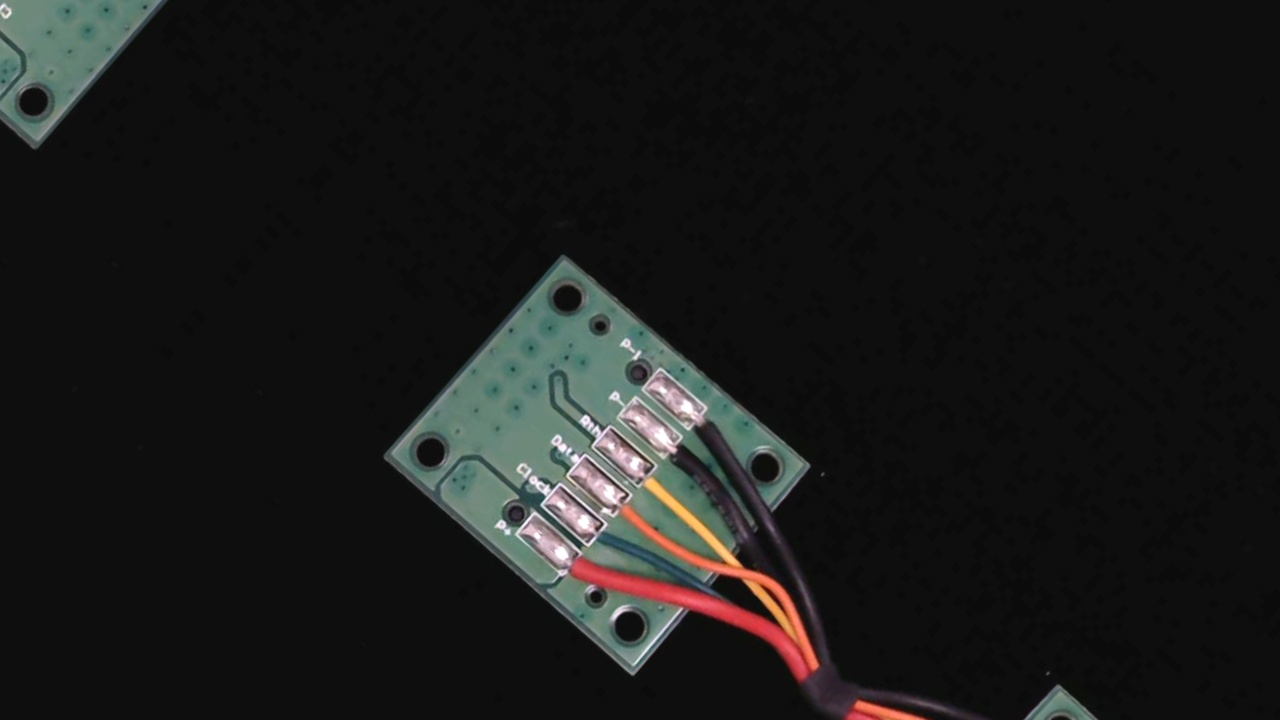Black: (650, 423, 727, 497)
Black1: (675, 395, 748, 464)
Green: (575, 509, 644, 575)
Orange: (599, 484, 676, 557)
Red: (548, 542, 624, 615)
Yellow: (623, 453, 701, 528)
